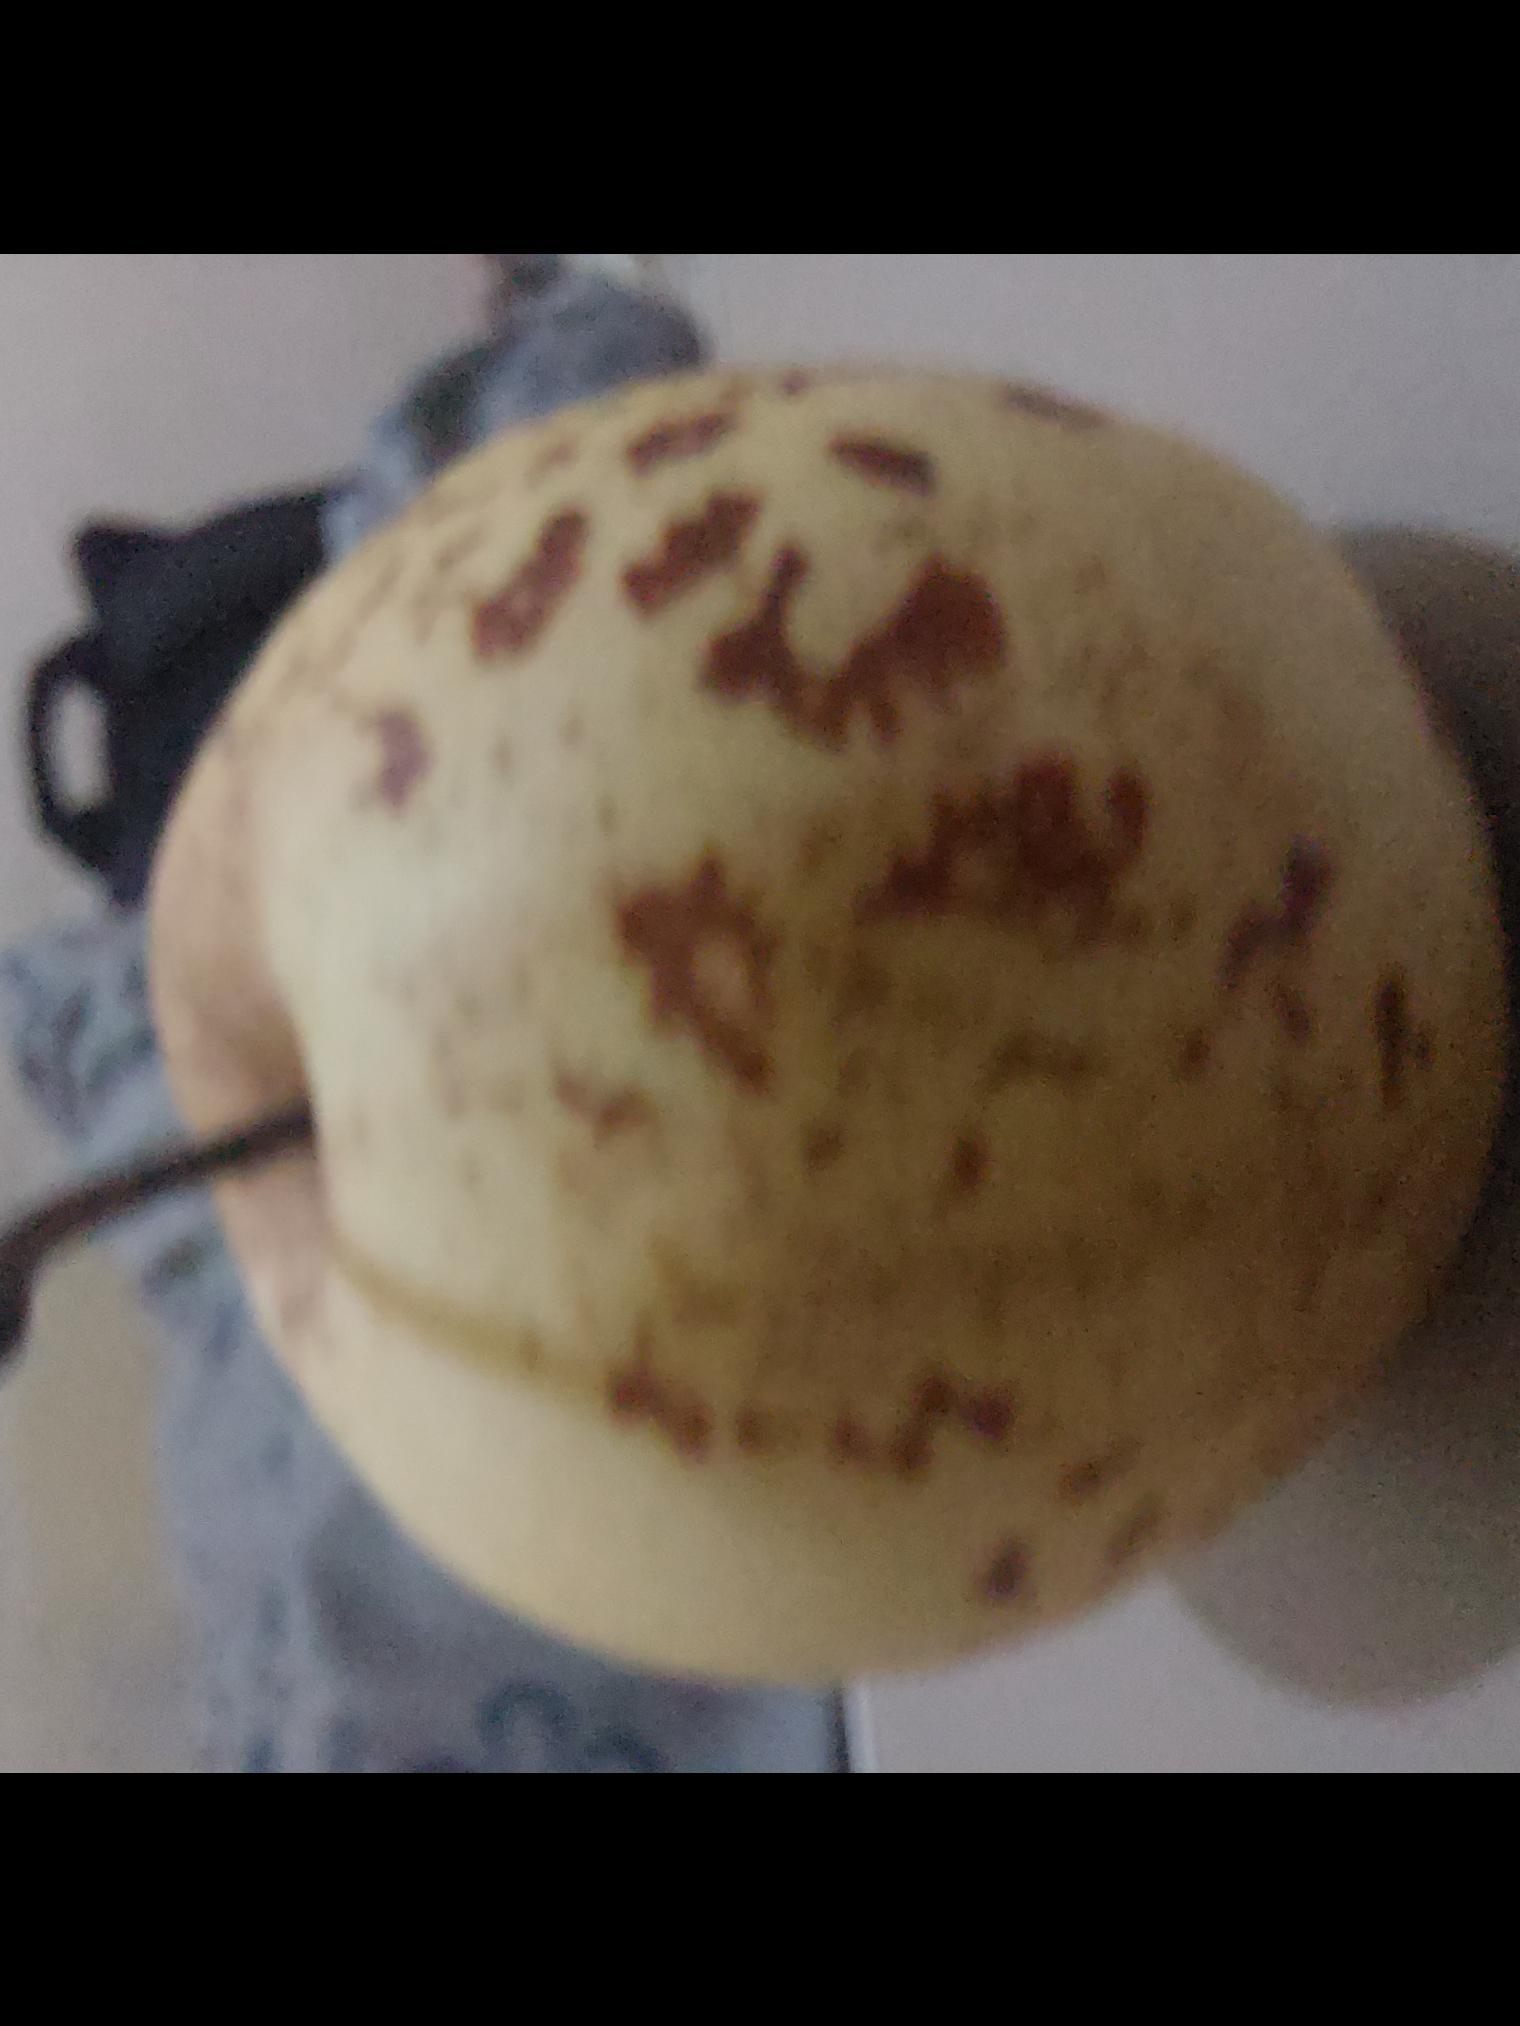Bad Pear: (278, 485, 1435, 1702)
